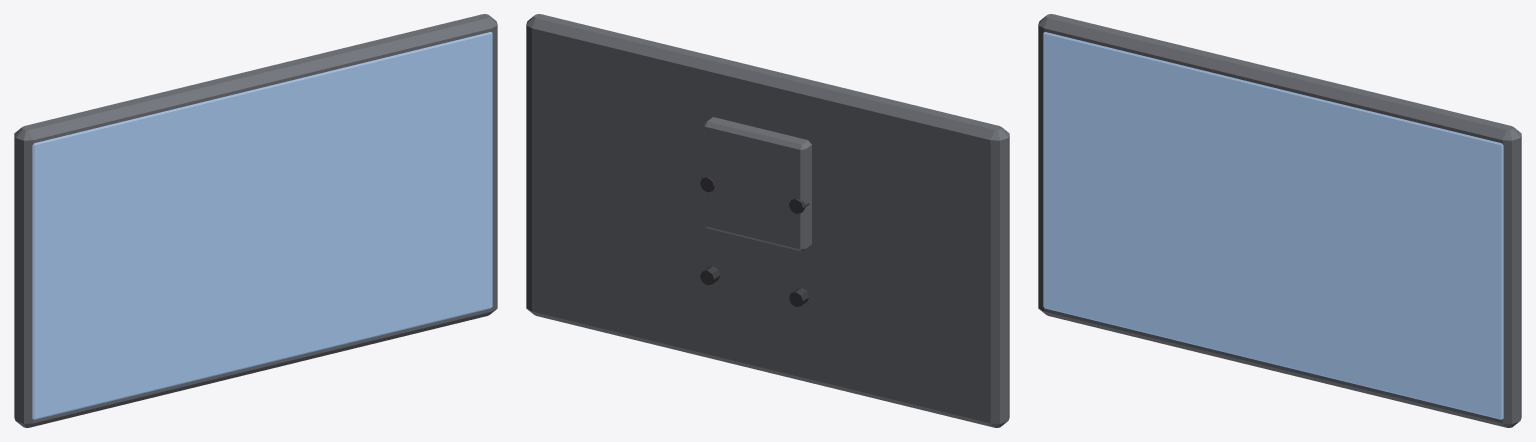
The model's file is computers-and-desk-gadgets-monitor-24-flat-wallmount-cf32a962__38836.glb.
3 views of the same model, side by side, from view 1: azimuth 30°, elevation 25°; view 2: azimuth 150°, elevation 25°; view 3: azimuth 330°, elevation 25° (orthographic).
Visible parts, largest first — view 1: monitor-24-flat-wallmount; view 2: monitor-24-flat-wallmount; view 3: monitor-24-flat-wallmount.
Boxes of the visible parts, x1,y1,x2,y2 form: monitor-24-flat-wallmount: [14, 14, 497, 427]; monitor-24-flat-wallmount: [526, 14, 1009, 427]; monitor-24-flat-wallmount: [1038, 14, 1521, 427].
Bounding box in the file's own units: 0.54 × 0.32 × 0.0463.
